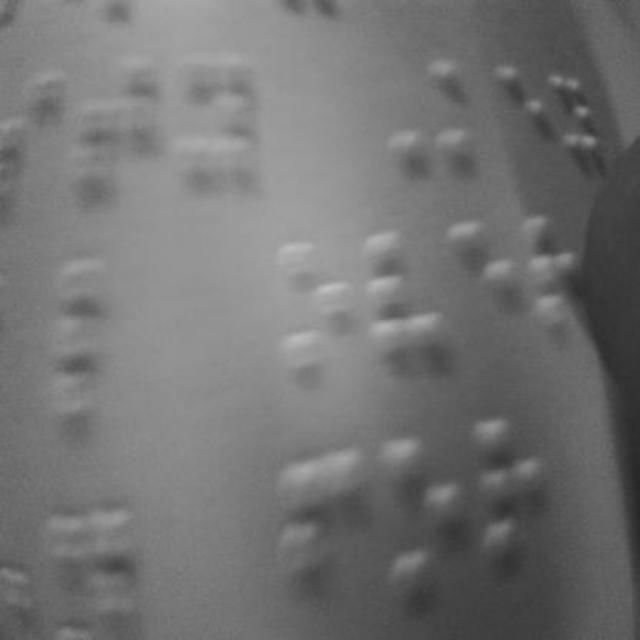braiile: (377, 430, 467, 598), (470, 403, 554, 555), (278, 234, 352, 380), (366, 224, 439, 356), (447, 212, 513, 352), (433, 39, 497, 169)
